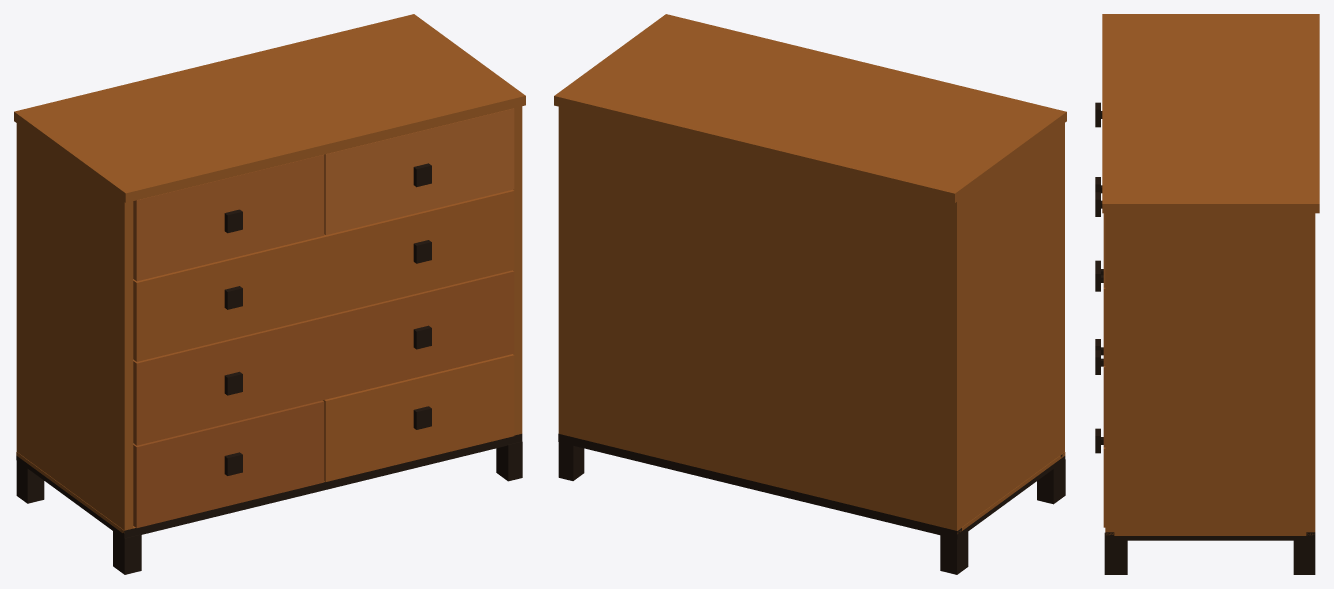
3 renders of one model, left to right at view 1: azimuth 30°, elevation 25°; view 2: azimuth 150°, elevation 25°; view 3: azimuth 270°, elevation 25°, orthographic. The views are drawn at different scales.
Visible parts, largest first — view 1: /Asset/Links/carcass/Visuals/top/Geom, /Asset/Links/carcass/Visuals/left_side/Geom, /Asset/Links/drawer_1_0/Visuals/front/Geom, /Asset/Links/drawer_2_0/Visuals/front/Geom, /Asset/Links/drawer_0_0/Visuals/front/Geom, /Asset/Links/drawer_0_1/Visuals/front/Geom, /Asset/Links/drawer_3_0/Visuals/front/Geom, /Asset/Links/drawer_3_1/Visuals/front/Geom, /Asset/Links/carcass/Visuals/apron_y__0_2255/Geom, /Asset/Links/carcass/Visuals/right_side/Geom, /Asset/Links/carcass/Visuals/leg__0_504__0_211/Geom, /Asset/Links/carcass/Visuals/leg_0_499__0_211/Geom (+1 smaller); view 2: /Asset/Links/carcass/Visuals/back/Geom, /Asset/Links/carcass/Visuals/top/Geom, /Asset/Links/carcass/Visuals/left_side/Geom, /Asset/Links/carcass/Visuals/apron_y_0_2435/Geom, /Asset/Links/carcass/Visuals/right_side/Geom, /Asset/Links/carcass/Visuals/leg__0_504_0_229/Geom, /Asset/Links/carcass/Visuals/leg_0_499_0_229/Geom, /Asset/Links/carcass/Visuals/leg__0_504__0_211/Geom; view 3: /Asset/Links/carcass/Visuals/right_side/Geom, /Asset/Links/carcass/Visuals/top/Geom, /Asset/Links/carcass/Visuals/apron_x_0_508/Geom, /Asset/Links/carcass/Visuals/leg_0_499__0_211/Geom, /Asset/Links/carcass/Visuals/leg_0_499_0_229/Geom, /Asset/Links/carcass/Visuals/floor/Geom.
Part boxes in pixels (x1=…): /Asset/Links/carcass/Visuals/top/Geom: x1=14, y1=14, x2=525, y2=202; /Asset/Links/carcass/Visuals/left_side/Geom: x1=16, y1=123, x2=133, y2=530; /Asset/Links/drawer_1_0/Visuals/front/Geom: x1=133, y1=270, x2=514, y2=445; /Asset/Links/drawer_2_0/Visuals/front/Geom: x1=133, y1=189, x2=514, y2=361; /Asset/Links/drawer_0_0/Visuals/front/Geom: x1=133, y1=400, x2=324, y2=527; /Asset/Links/drawer_0_1/Visuals/front/Geom: x1=323, y1=354, x2=514, y2=481; /Asset/Links/drawer_3_0/Visuals/front/Geom: x1=133, y1=154, x2=324, y2=281; /Asset/Links/drawer_3_1/Visuals/front/Geom: x1=324, y1=108, x2=514, y2=234; /Asset/Links/carcass/Visuals/apron_y__0_2255/Geom: x1=119, y1=434, x2=522, y2=538; /Asset/Links/carcass/Visuals/right_side/Geom: x1=513, y1=106, x2=522, y2=435; /Asset/Links/carcass/Visuals/leg__0_504__0_211/Geom: x1=113, y1=531, x2=141, y2=574; /Asset/Links/carcass/Visuals/leg_0_499__0_211/Geom: x1=496, y1=441, x2=522, y2=481; /Asset/Links/carcass/Visuals/back/Geom: x1=567, y1=108, x2=948, y2=528; /Asset/Links/carcass/Visuals/top/Geom: x1=554, y1=14, x2=1066, y2=203; /Asset/Links/carcass/Visuals/left_side/Geom: x1=948, y1=123, x2=1064, y2=530; /Asset/Links/carcass/Visuals/apron_y_0_2435/Geom: x1=558, y1=433, x2=961, y2=539; /Asset/Links/carcass/Visuals/right_side/Geom: x1=558, y1=106, x2=566, y2=435; /Asset/Links/carcass/Visuals/leg__0_504_0_229/Geom: x1=940, y1=532, x2=968, y2=574; /Asset/Links/carcass/Visuals/leg_0_499_0_229/Geom: x1=558, y1=442, x2=584, y2=480; /Asset/Links/carcass/Visuals/leg__0_504__0_211/Geom: x1=1037, y1=459, x2=1065, y2=504; /Asset/Links/carcass/Visuals/right_side/Geom: x1=1105, y1=213, x2=1315, y2=532; /Asset/Links/carcass/Visuals/top/Geom: x1=1102, y1=14, x2=1319, y2=213; /Asset/Links/carcass/Visuals/apron_x_0_508/Geom: x1=1114, y1=536, x2=1306, y2=540; /Asset/Links/carcass/Visuals/leg_0_499__0_211/Geom: x1=1104, y1=533, x2=1127, y2=574; /Asset/Links/carcass/Visuals/leg_0_499_0_229/Geom: x1=1293, y1=540, x2=1315, y2=574; /Asset/Links/carcass/Visuals/floor/Geom: x1=1105, y1=532, x2=1314, y2=535.
Size of the model in its own units: 1.05 by 0.959 by 0.5248.
